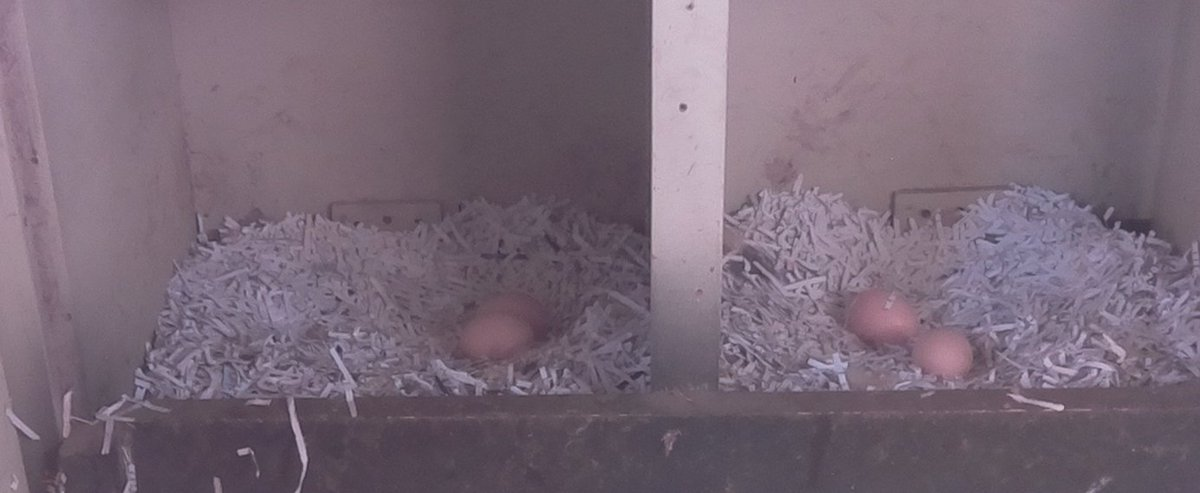egg: (843, 286, 926, 344), (456, 310, 535, 363), (907, 324, 974, 381), (474, 290, 554, 336)
